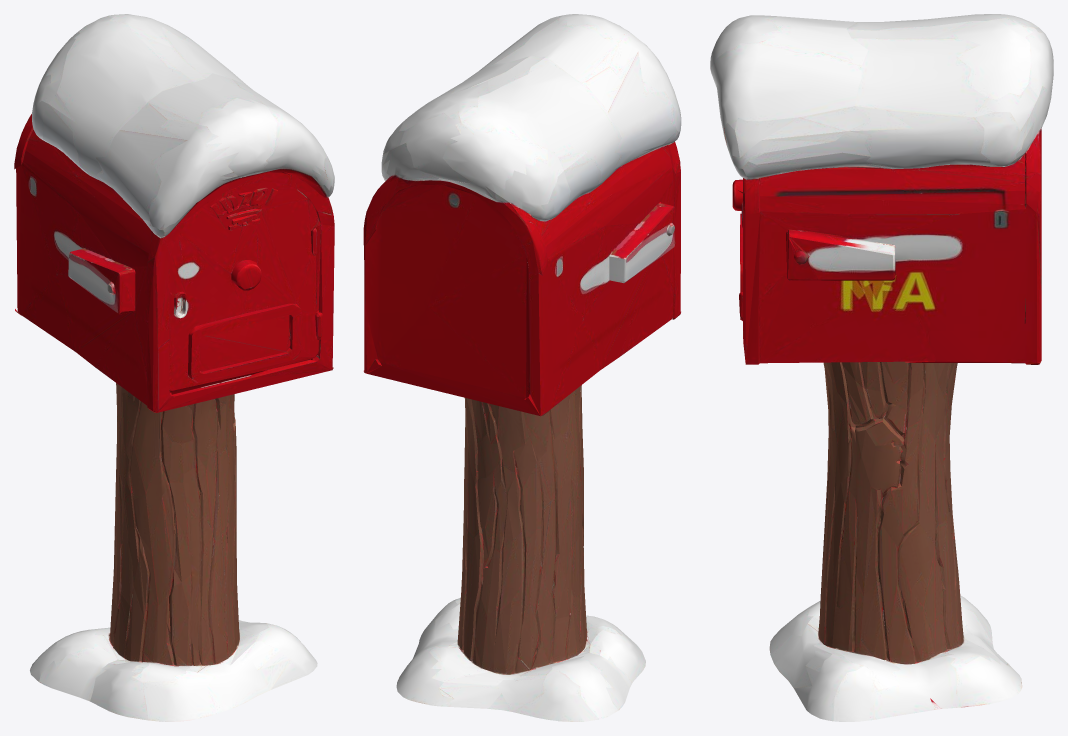
File: mailbox.glb
3 views of the same model, side by side, from view 1: azimuth 30°, elevation 25°; view 2: azimuth 150°, elevation 25°; view 3: azimuth 270°, elevation 25° (orthographic). The views are drawn at different scales.
Size of the model in its own units: 0.7532 by 1.9 by 0.9209.
Materials: 1 (1 with a texture image).
